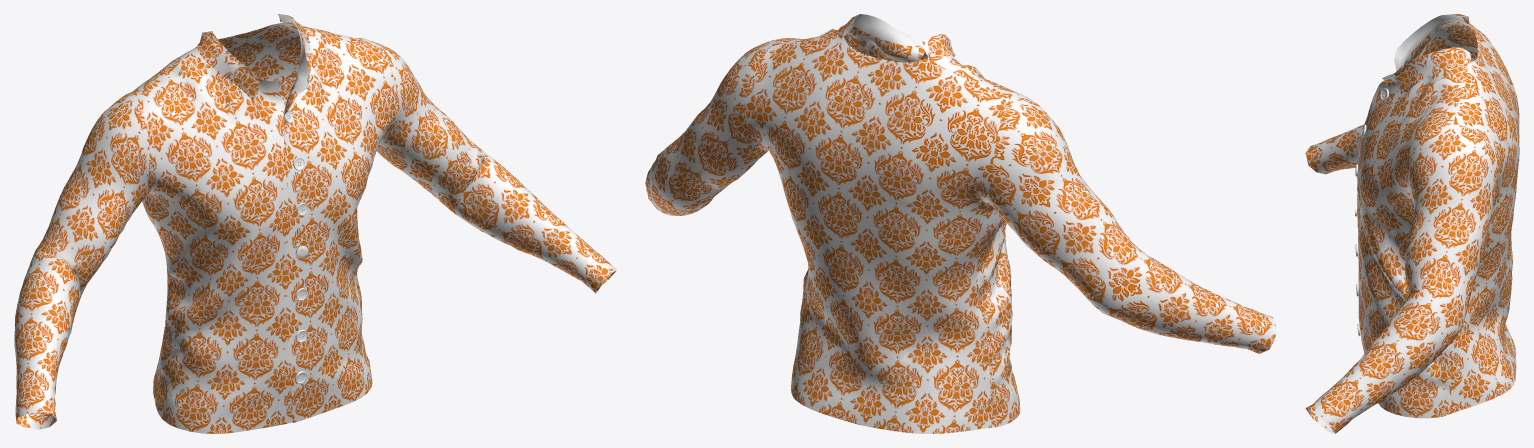
File: Baju_Panjang.fbx
3 views of the same model, side by side, from view 1: azimuth 30°, elevation 25°; view 2: azimuth 150°, elevation 25°; view 3: azimuth 270°, elevation 25° (orthographic). The views are drawn at different scales.
Visible parts, largest first — view 1: Baju_Panjang.003; view 2: Baju_Panjang.003; view 3: Baju_Panjang.003.
Boxes of the visible parts, x1,y1,x2,y2 form: Baju_Panjang.003: (14, 14, 616, 433); Baju_Panjang.003: (645, 14, 1276, 433); Baju_Panjang.003: (1305, 14, 1519, 433).
Size of the model in its own units: 1059 by 620 by 348.
4 materials, 2 textured.
